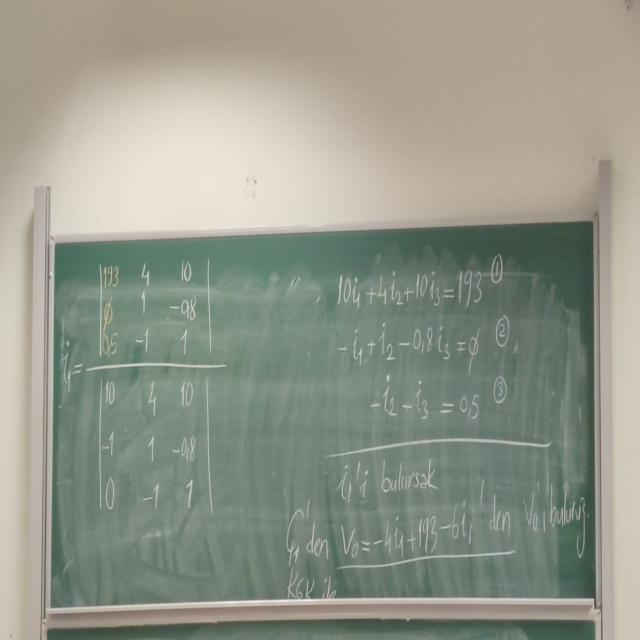math: (94, 374, 228, 520), (92, 250, 230, 365), (366, 367, 510, 437), (336, 317, 514, 367), (329, 266, 513, 313), (334, 511, 486, 557)
text: (490, 485, 597, 553), (331, 452, 443, 507)
